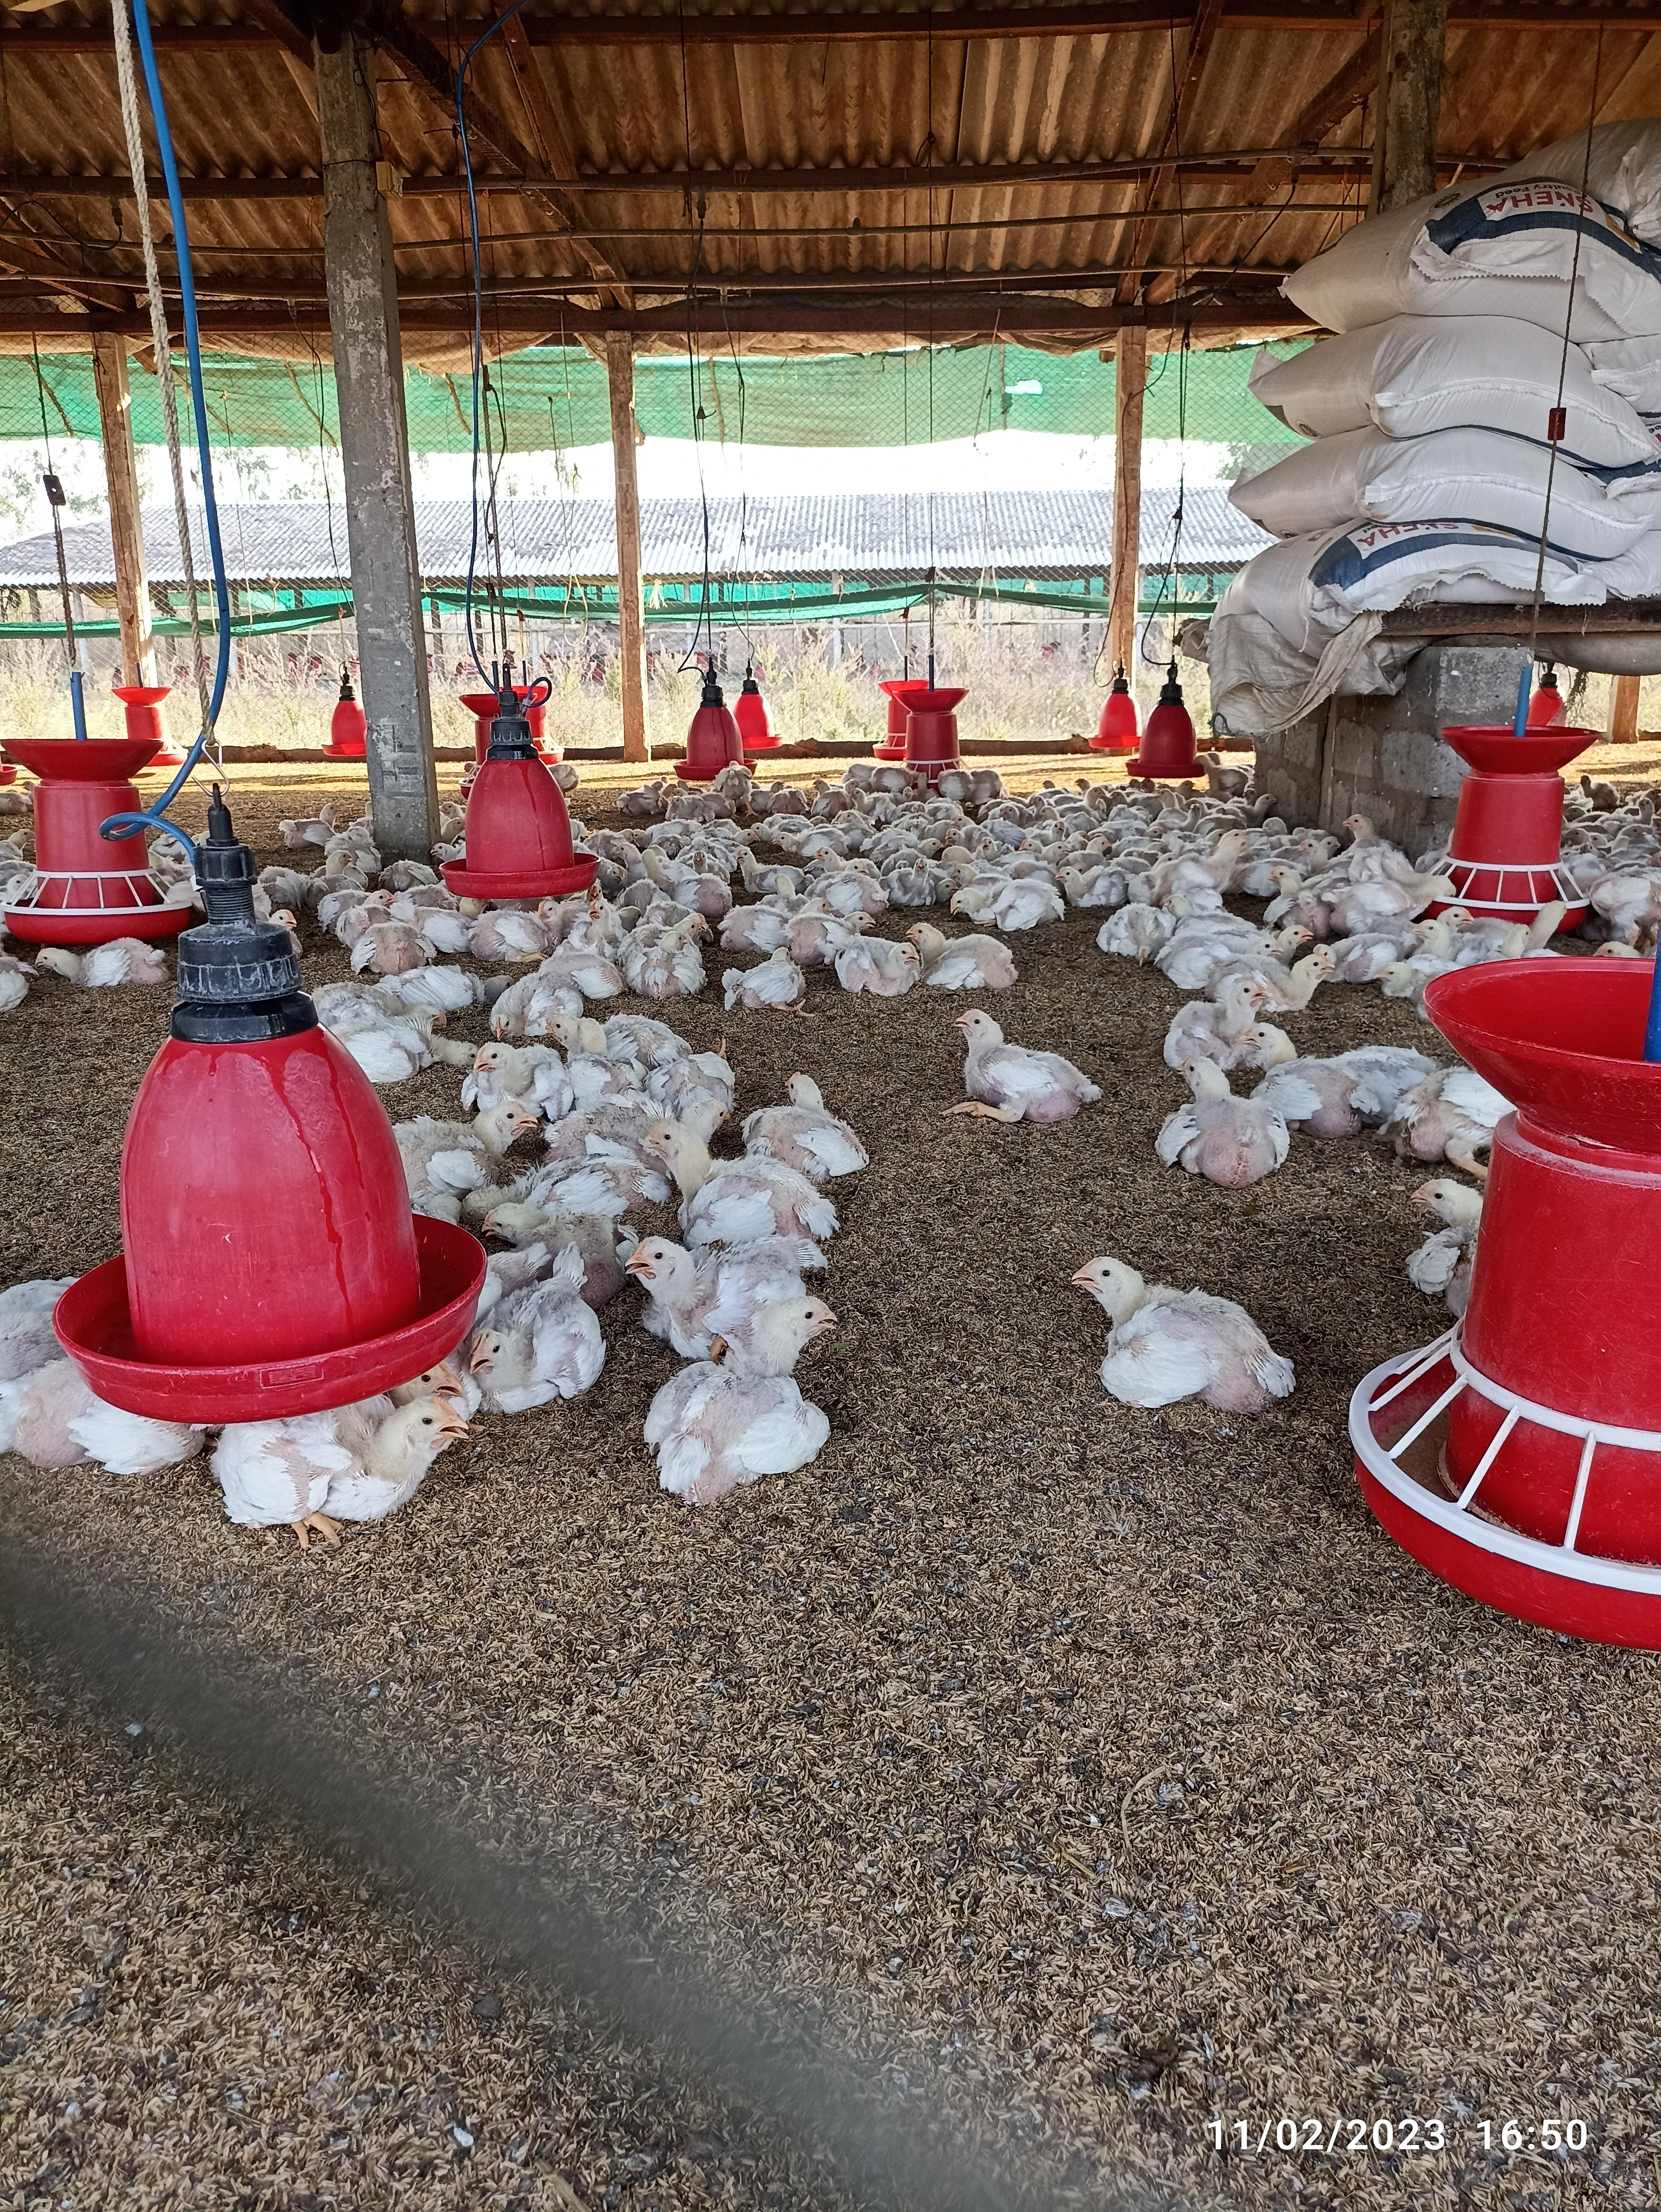Pollos: (649, 1291, 851, 1514), (1064, 1251, 1300, 1420), (241, 1399, 487, 1533), (635, 1113, 844, 1244), (1152, 1062, 1303, 1190), (942, 1001, 1101, 1120), (471, 1268, 605, 1403)
